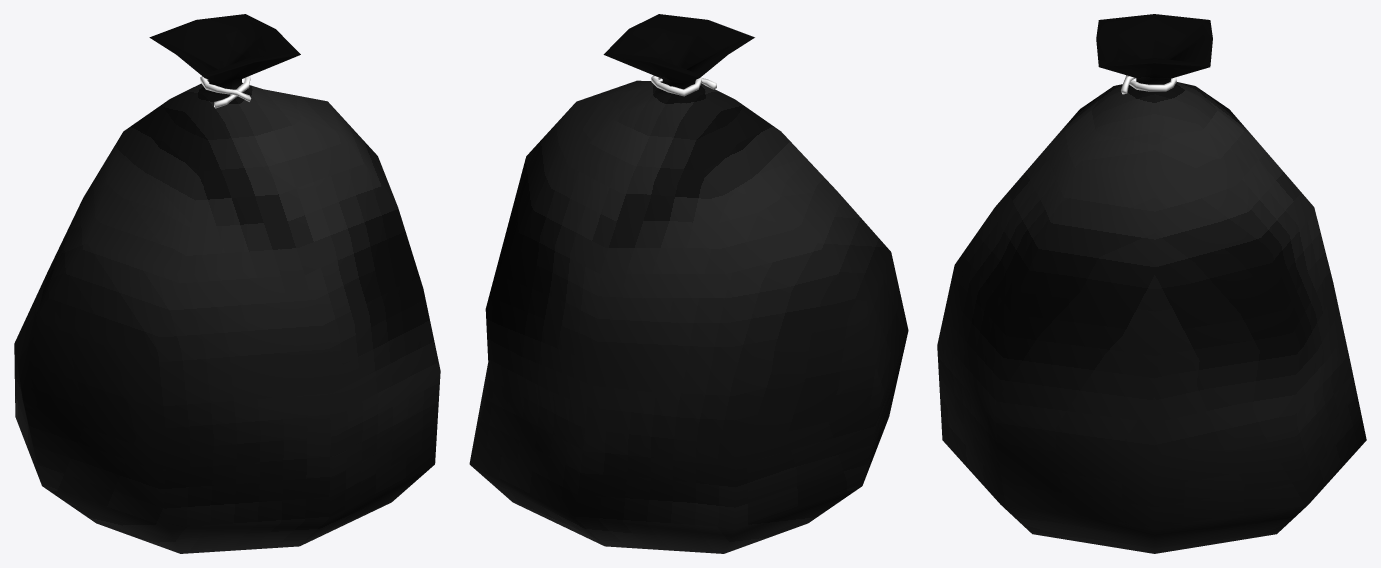
The model's file is Trash Bag.fbx.
3 renders of one model, left to right at view 1: azimuth 30°, elevation 25°; view 2: azimuth 150°, elevation 25°; view 3: azimuth 270°, elevation 25°, orthographic.
Visible parts, largest first — view 1: Trash Bag; view 2: Trash Bag; view 3: Trash Bag.
Boxes of the visible parts, x1,y1,x2,y2 form: Trash Bag: [14, 14, 440, 553]; Trash Bag: [469, 14, 908, 553]; Trash Bag: [937, 14, 1366, 553].
Size of the model in its own units: 0.5409 by 0.6125 by 0.5193.
